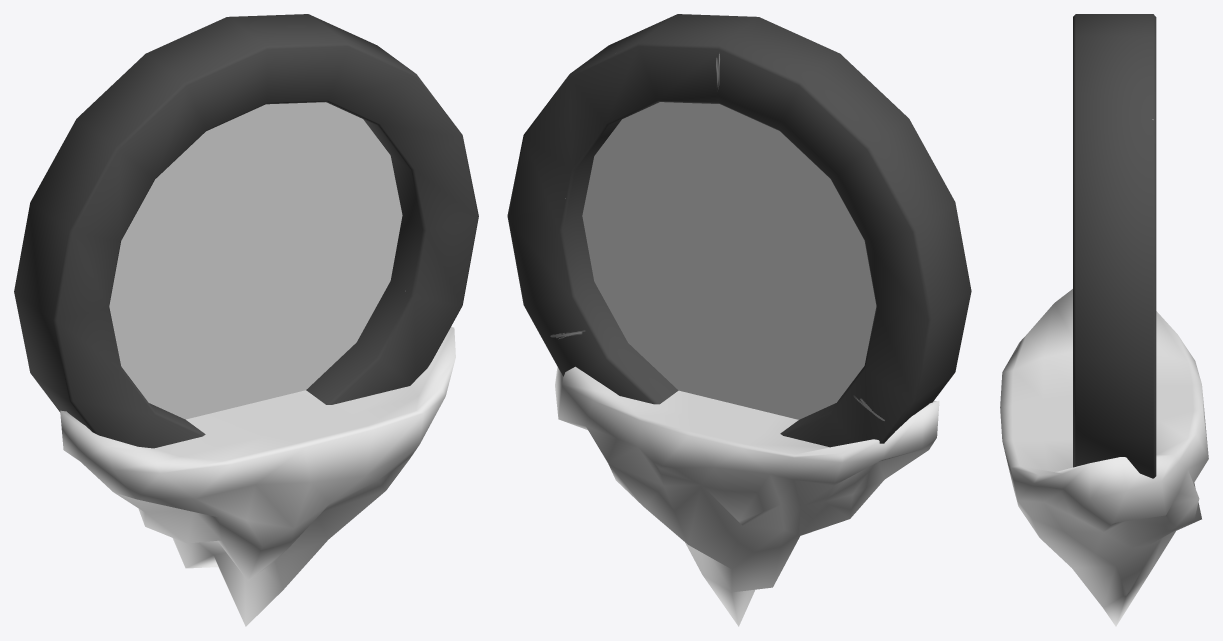
The model's file is SC_Portal.fbx.
The picture shows the model from 3 angles, left to right: view 1: azimuth 30°, elevation 25°; view 2: azimuth 150°, elevation 25°; view 3: azimuth 270°, elevation 25°; orthographic projection.
Parts seen in each view (by area): view 1: SC_PortalEdge, SC_Portal, SC_FloatingRock; view 2: SC_PortalEdge, SC_Portal, SC_FloatingRock; view 3: SC_PortalEdge, SC_FloatingRock.
Part boxes in pixels (left/top/right/bottom): SC_PortalEdge: left=14, top=14, right=478, bottom=448; SC_Portal: left=109, top=102, right=402, bottom=419; SC_FloatingRock: left=60, top=327, right=455, bottom=626; SC_PortalEdge: left=507, top=14, right=971, bottom=447; SC_Portal: left=582, top=102, right=876, bottom=419; SC_FloatingRock: left=555, top=366, right=939, bottom=626; SC_PortalEdge: left=1073, top=14, right=1156, bottom=478; SC_FloatingRock: left=1000, top=289, right=1208, bottom=626.
Bounding box in the file's own units: 4.62 × 6.18 × 1.98.
